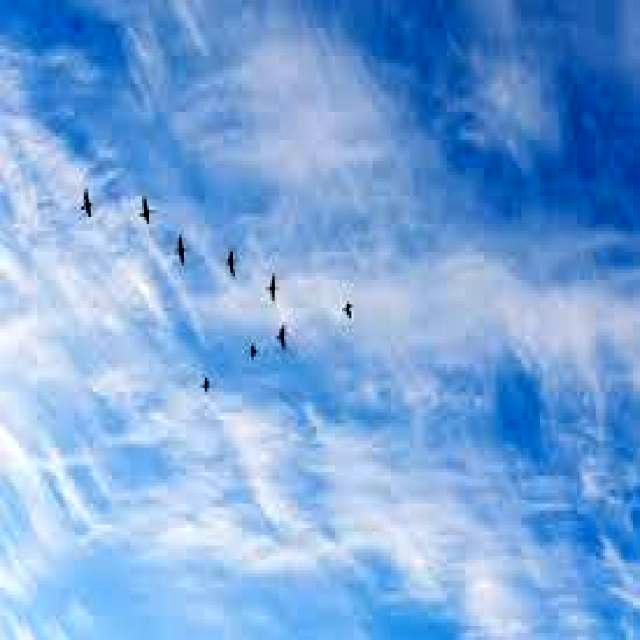bird: (72, 174, 108, 228), (129, 185, 163, 233), (215, 238, 244, 292), (170, 217, 196, 276), (191, 360, 216, 409), (258, 264, 286, 306), (268, 320, 294, 362), (240, 332, 264, 374), (338, 290, 356, 328)
